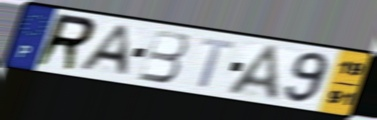9: (282, 50, 332, 105)
A: (224, 43, 282, 103), (74, 23, 131, 78)
B: (136, 28, 190, 85)
R: (31, 11, 99, 73)
T: (196, 36, 238, 90)
